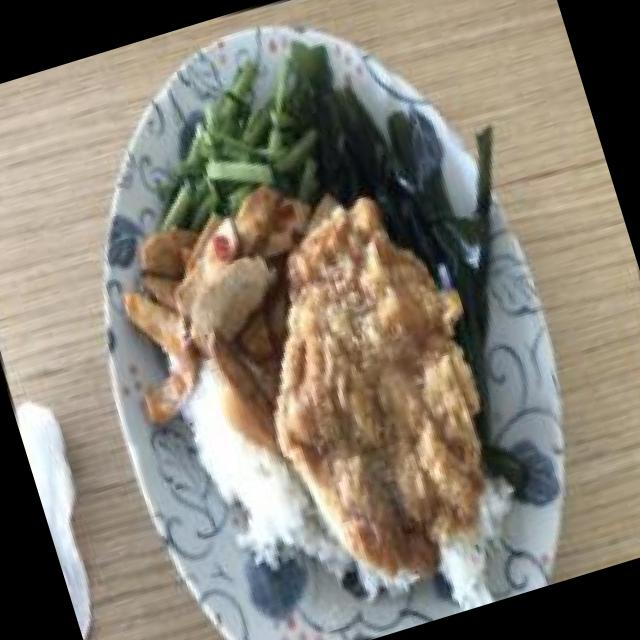fried_chicken: (207, 166, 538, 610)
water_spinach: (152, 67, 314, 234)
